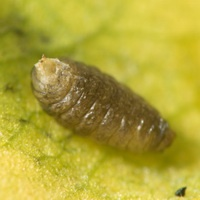insect: (32, 56, 174, 151), (175, 187, 185, 196)
